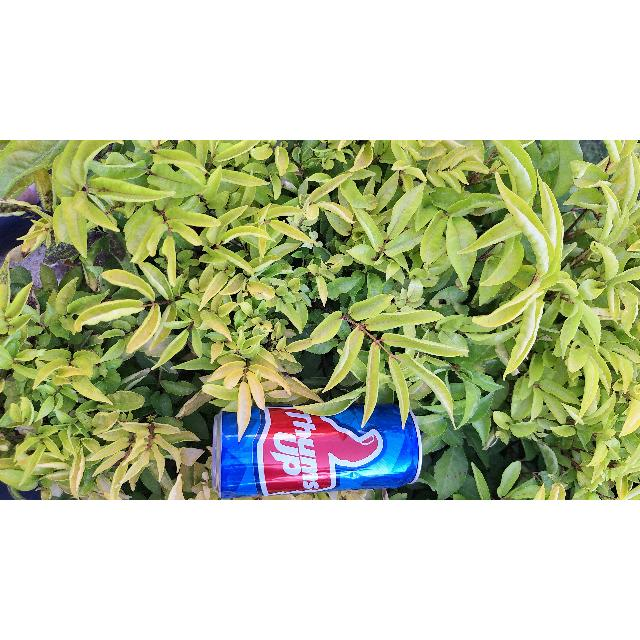Thums Up: (210, 403, 422, 497)
